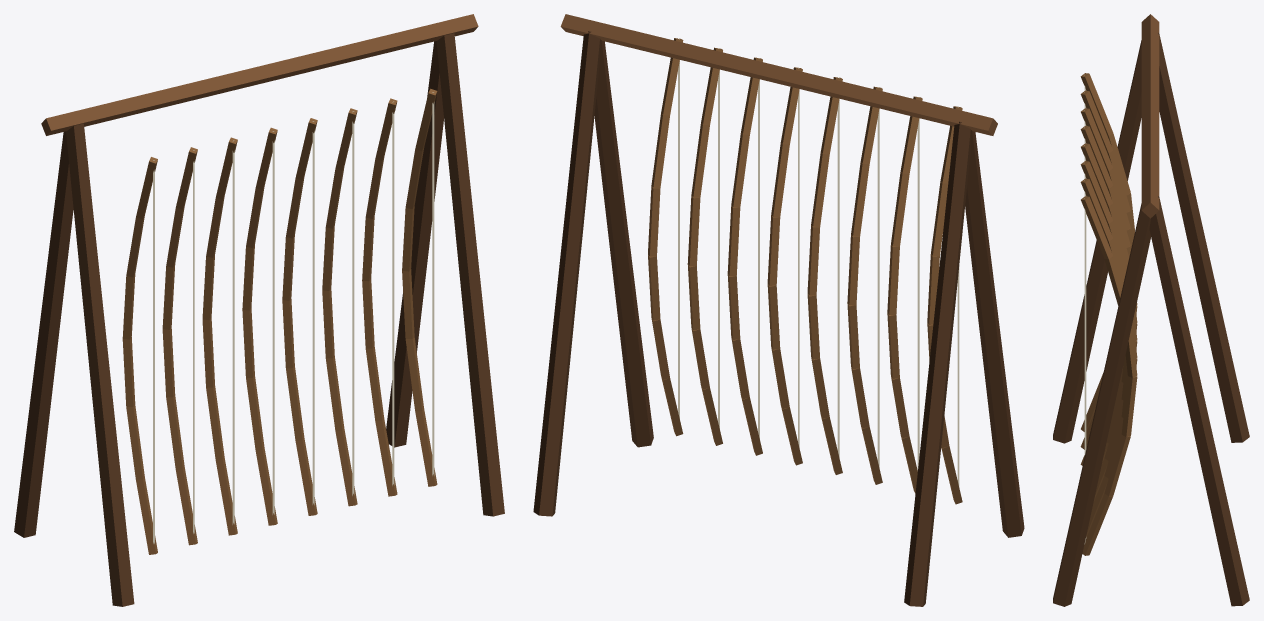
File: pile_bows_3.glb
3 renders of one model, left to right at view 1: azimuth 30°, elevation 25°; view 2: azimuth 150°, elevation 25°; view 3: azimuth 270°, elevation 25°, orthographic. The views are drawn at different scales.
Visible parts, largest first — view 1: pile_bows_3; view 2: pile_bows_3; view 3: pile_bows_3.
Part boxes in pixels (bbox=[...]): pile_bows_3: bbox=[14, 14, 504, 606]; pile_bows_3: bbox=[533, 14, 1024, 606]; pile_bows_3: bbox=[1053, 14, 1249, 606].
Size of the model in its own units: 1.5 by 1.54 by 0.6621.
